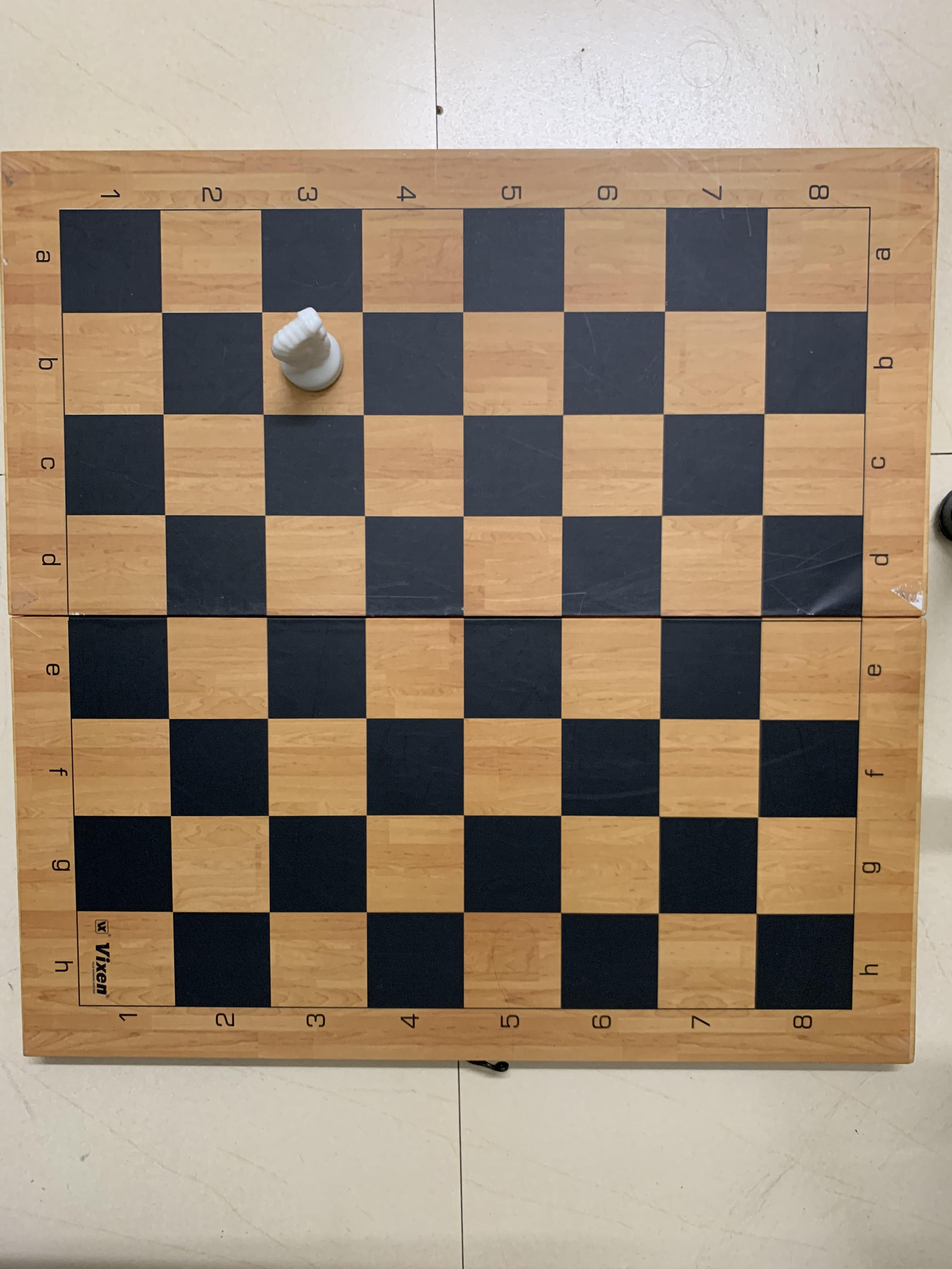white_knight: (261, 312, 365, 411)
